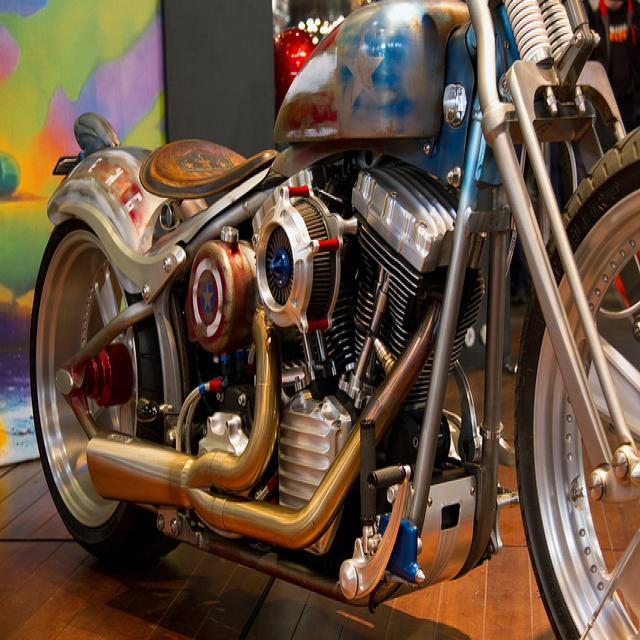motor: (28, 30, 640, 640)
